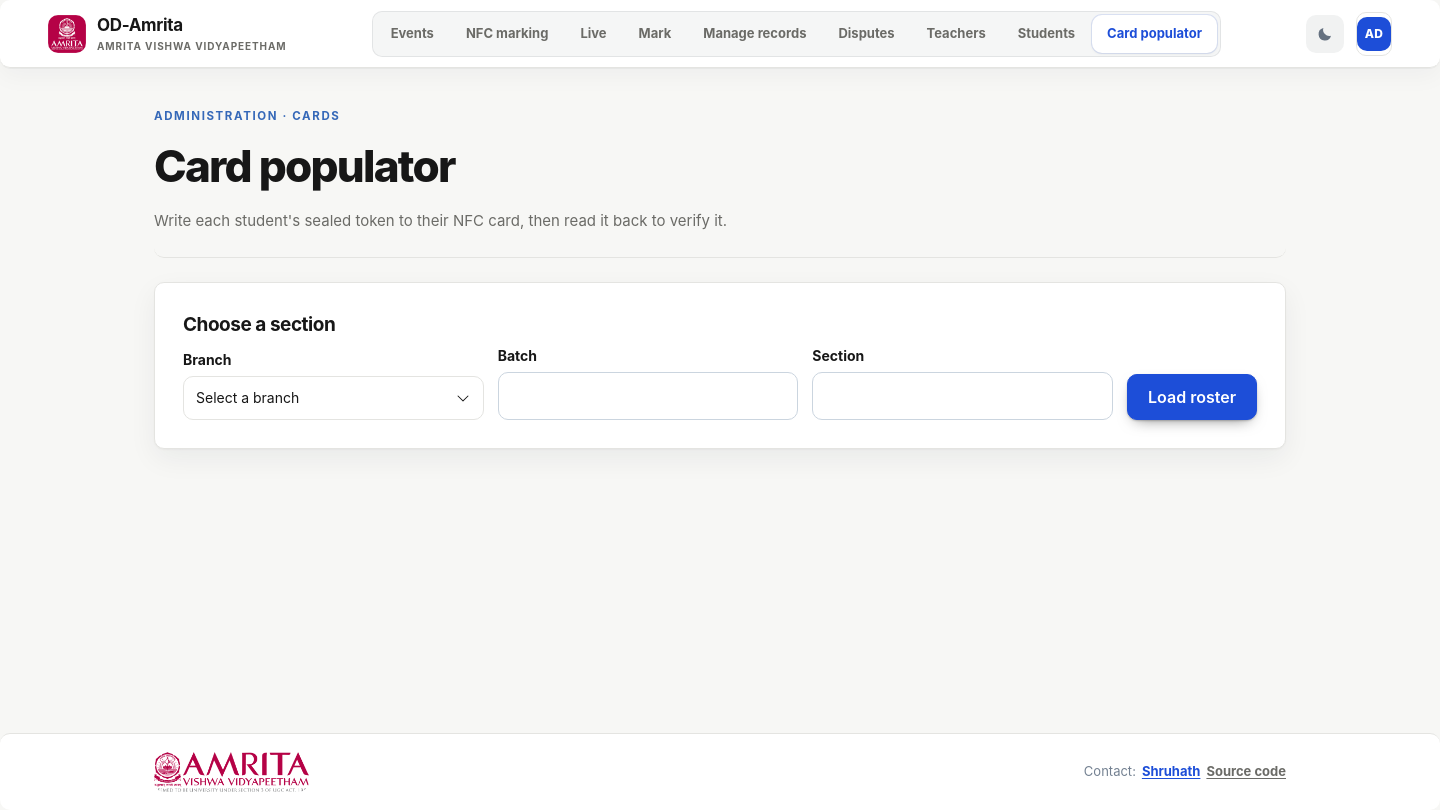
Scenario: Card populator portal › [P0] normalizes the section filter before requesting the roster
The width and height of the screenshot is (1440, 810).
Expected: the heading "Card populator" is shown, [154, 139, 455, 193]
Click the dropdown labelled "branch" at (248, 398), box [183, 376, 484, 420]
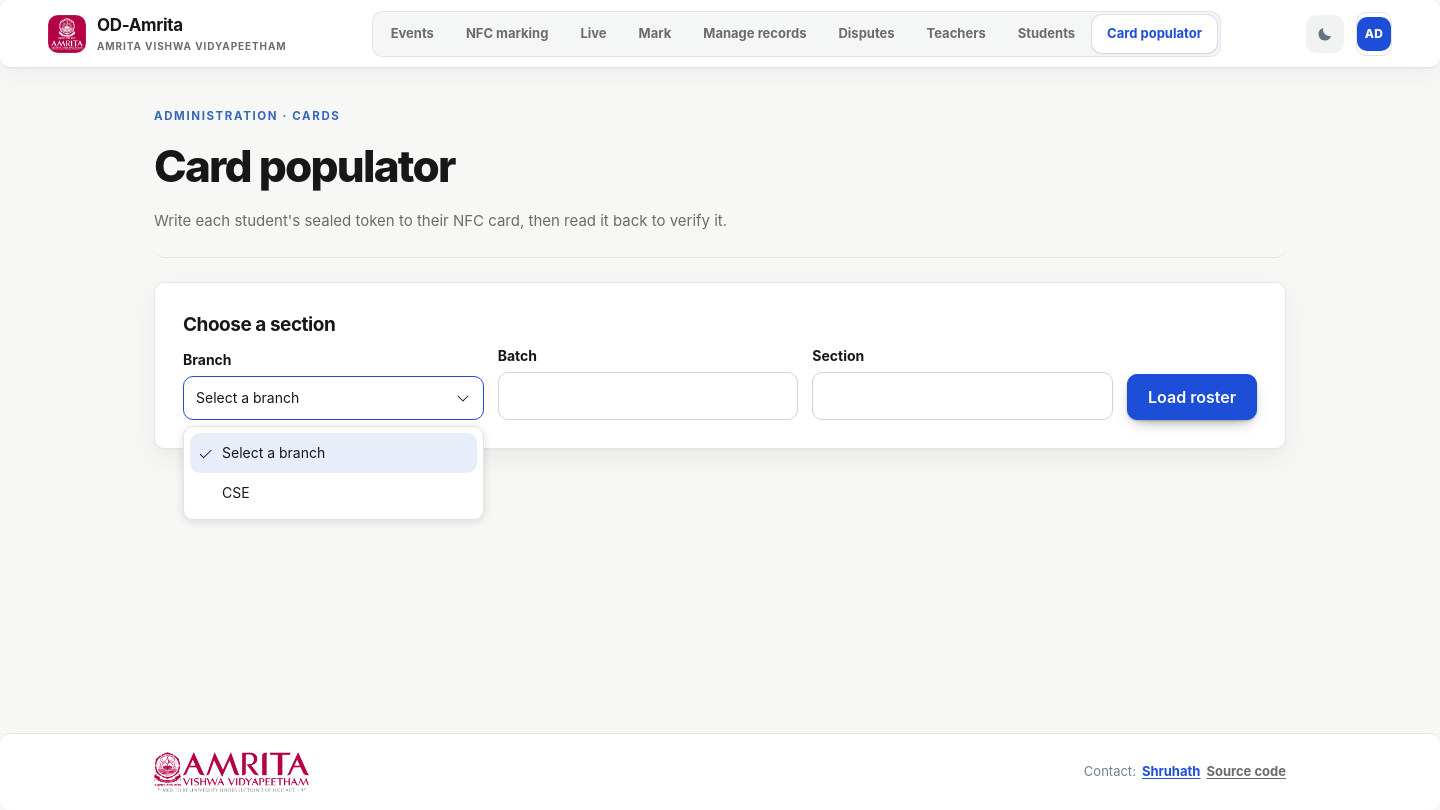
Click the option "CSE" at (236, 492), box [222, 484, 250, 501]
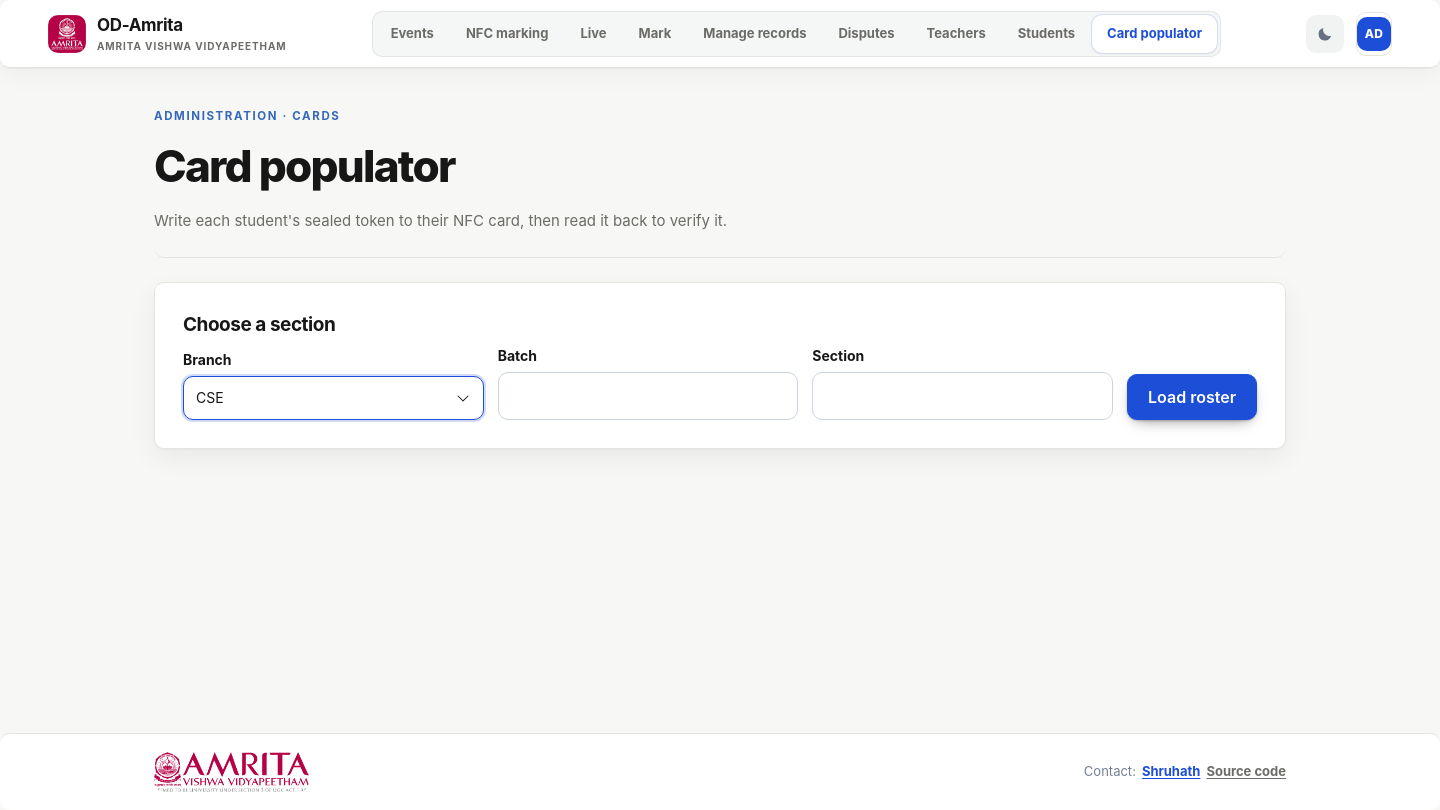
Type "2024" into the field labelled "Batch" at (648, 396), box [498, 372, 798, 420]
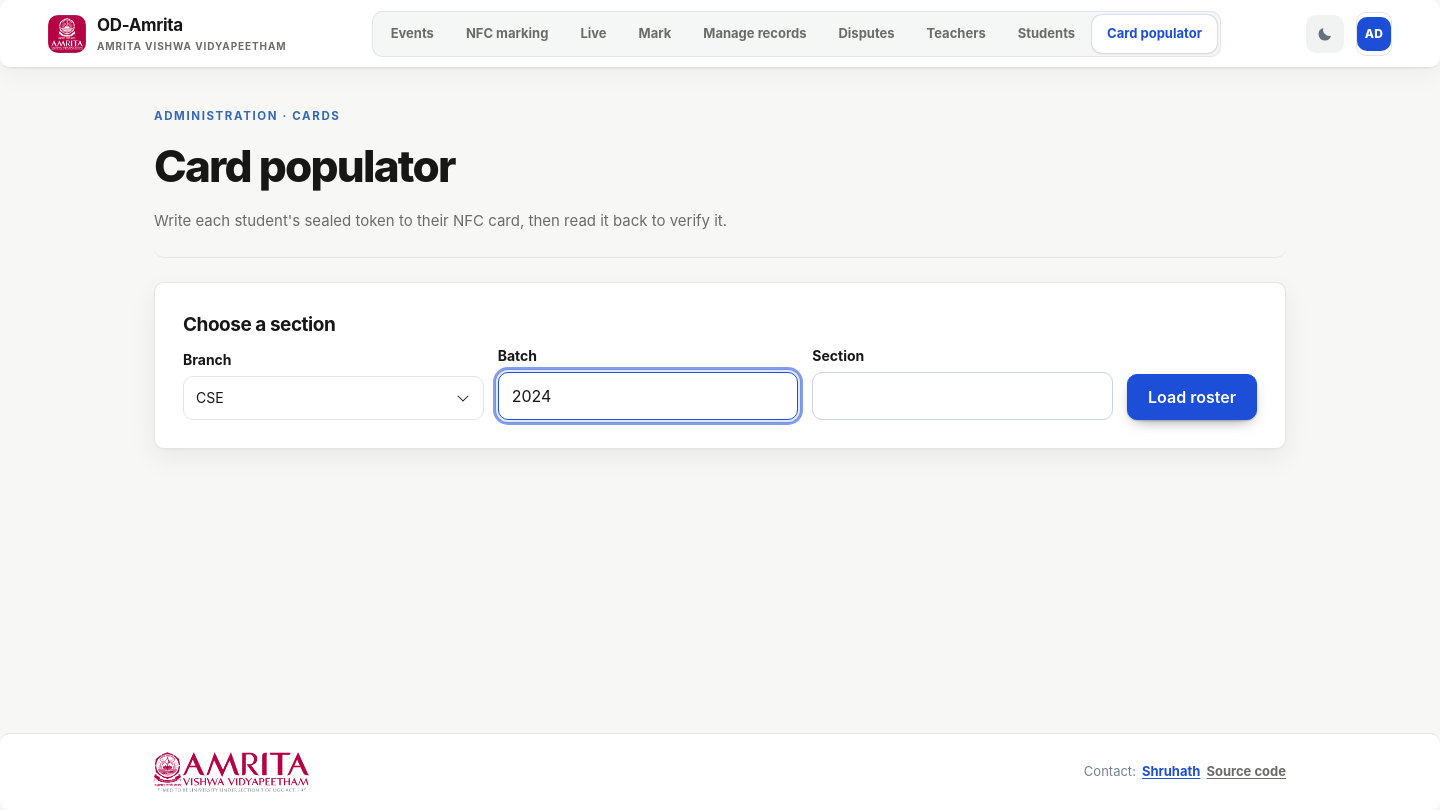
Type "a" into the field labelled "Section" at (963, 396), box [812, 372, 1113, 420]
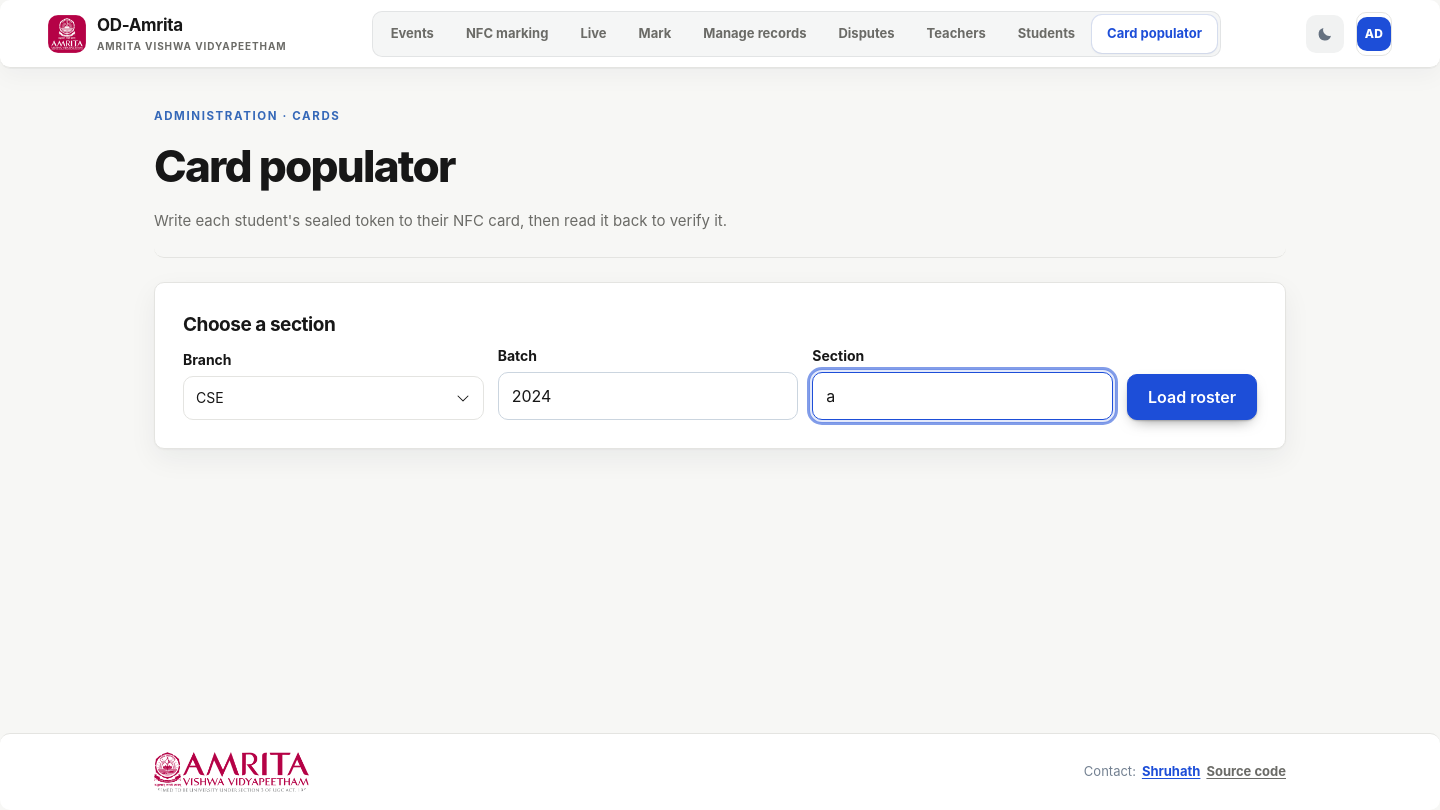
Click the button "Load roster" at (1192, 397), box [1127, 374, 1257, 420]
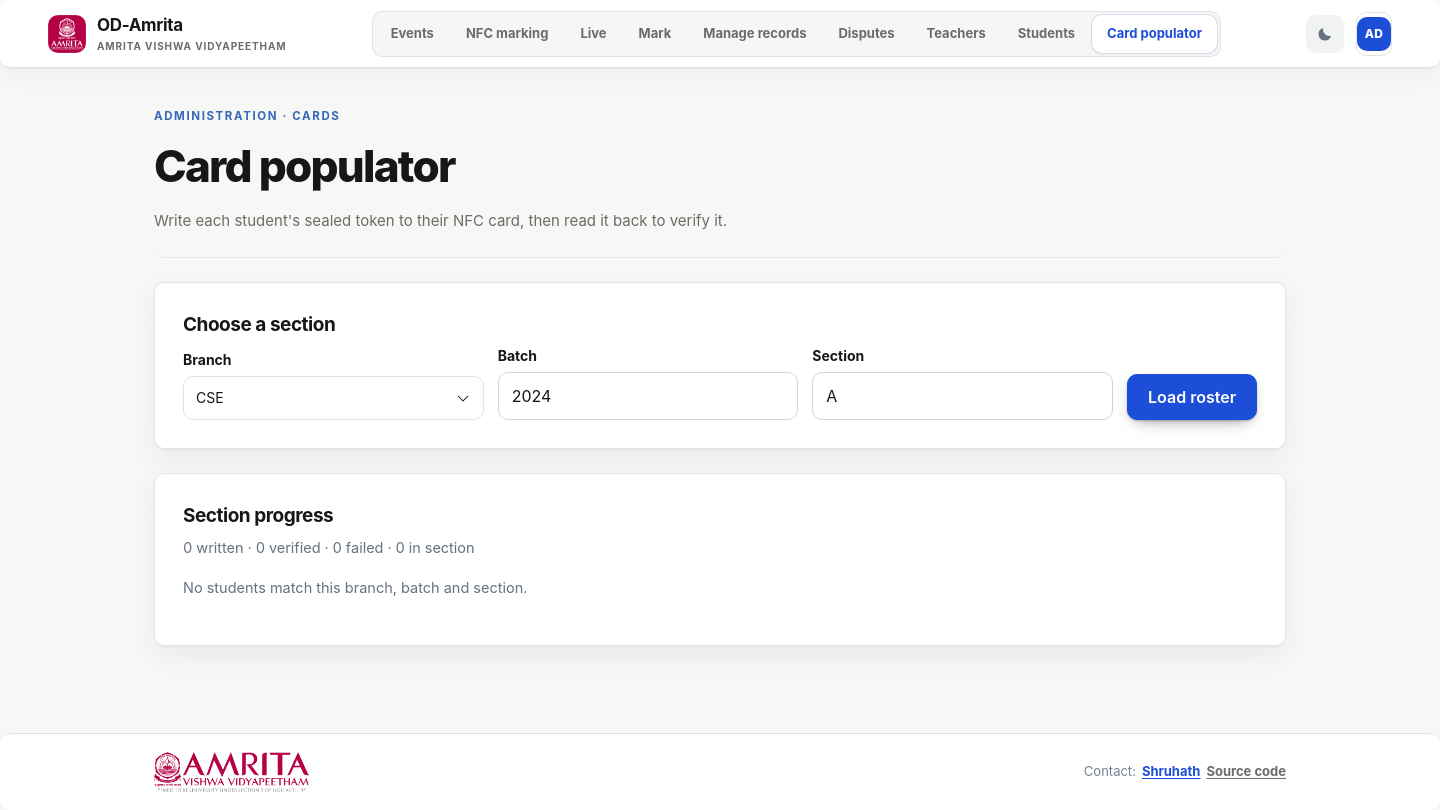
Expected: the text "No students match this branch, batch and section." is shown, [183, 579, 528, 596]
